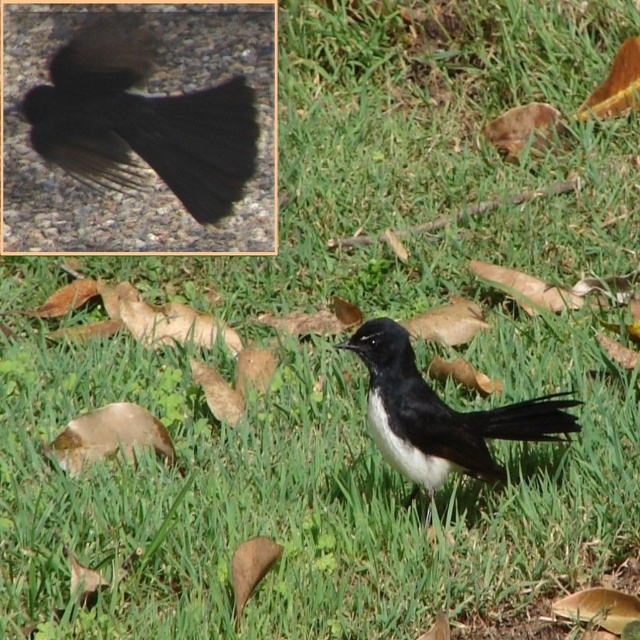Magpie: (332, 309, 584, 537)
